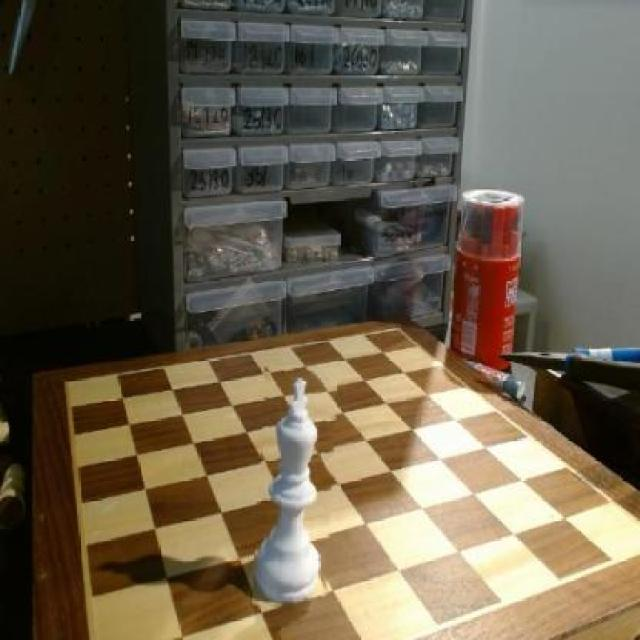white-bishop: (256, 368, 336, 609)
